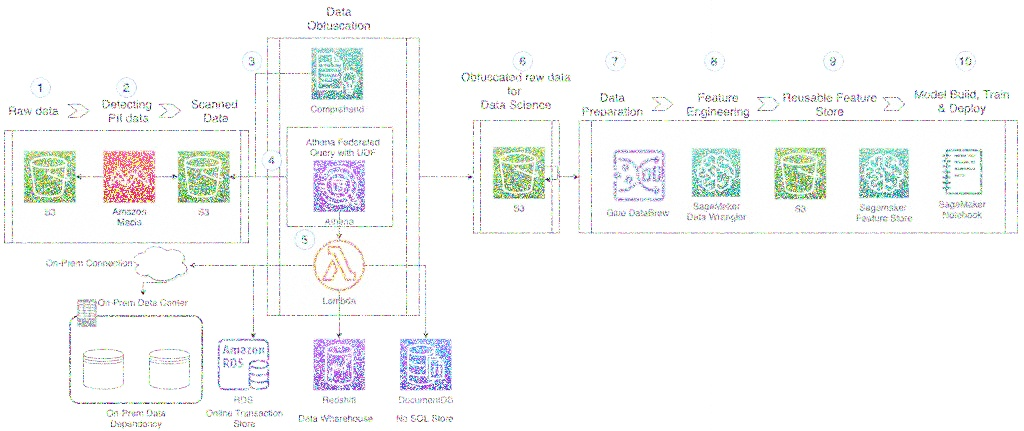Athena: (308, 155, 369, 215)
Comprehend: (309, 43, 367, 103)
Dynamo DB: (394, 335, 455, 394), (79, 343, 128, 395), (144, 344, 194, 391)
Glue DataBrew: (610, 145, 667, 204)
Lambda: (313, 236, 370, 293)
Macie: (99, 145, 162, 208)
Notebook: (939, 139, 987, 198)
RDS: (214, 334, 274, 394)
Redshift: (308, 334, 369, 395)
S3: (19, 145, 79, 206), (175, 144, 233, 206), (772, 144, 829, 204), (490, 145, 547, 201)
Sagemaker: (688, 143, 745, 200), (857, 145, 913, 203)
